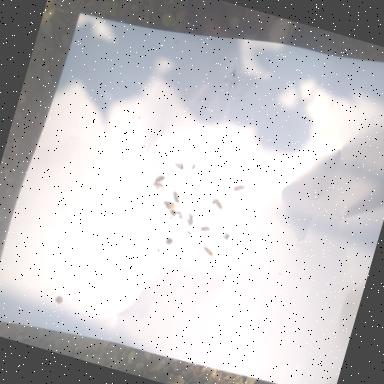pbw: (168, 186, 184, 204), (204, 246, 216, 258), (234, 184, 246, 194), (213, 200, 224, 210), (200, 224, 212, 233), (154, 182, 166, 190), (189, 216, 194, 227)
